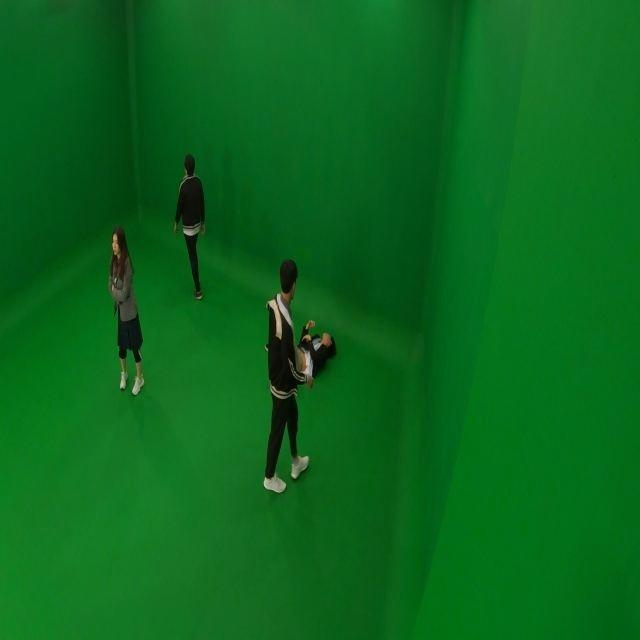non-fight: (260, 256, 317, 496), (109, 226, 146, 395), (263, 317, 338, 389), (174, 153, 207, 300)
